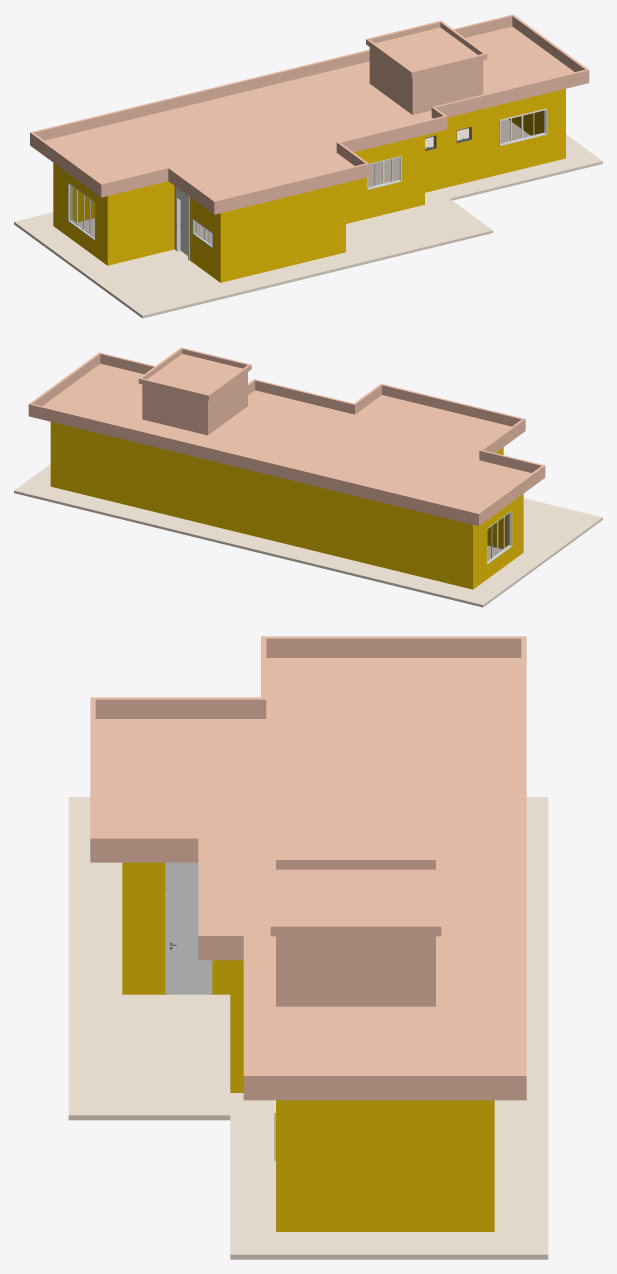
Rendered from modelo.glb.
3 renders of one model, top to bottom at view 1: azimuth 30°, elevation 25°; view 2: azimuth 150°, elevation 25°; view 3: azimuth 270°, elevation 25°, orthographic. The views are drawn at different scales.
Visible parts, largest first — view 1: MODELO 3D FEIRA - PARA IMPRESSÃO; view 2: MODELO 3D FEIRA - PARA IMPRESSÃO; view 3: MODELO 3D FEIRA - PARA IMPRESSÃO.
Part boxes in pixels (x1,y1,x2,y2): MODELO 3D FEIRA - PARA IMPRESSÃO: [14, 14, 602, 318]; MODELO 3D FEIRA - PARA IMPRESSÃO: [14, 347, 602, 607]; MODELO 3D FEIRA - PARA IMPRESSÃO: [68, 636, 548, 1259].
Size of the model in its own units: 0.6167 by 0.1492 by 0.2729.
